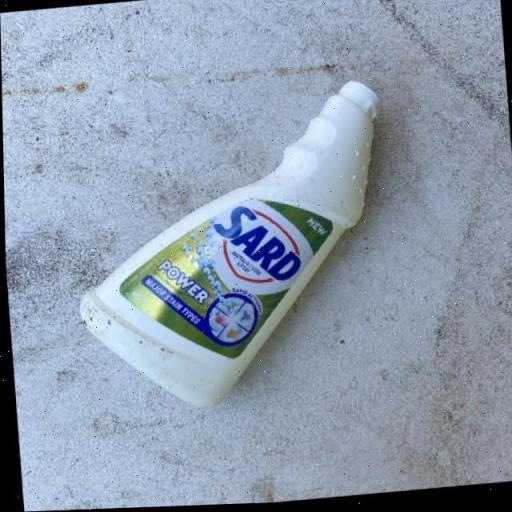plastic: (62, 78, 401, 420)
